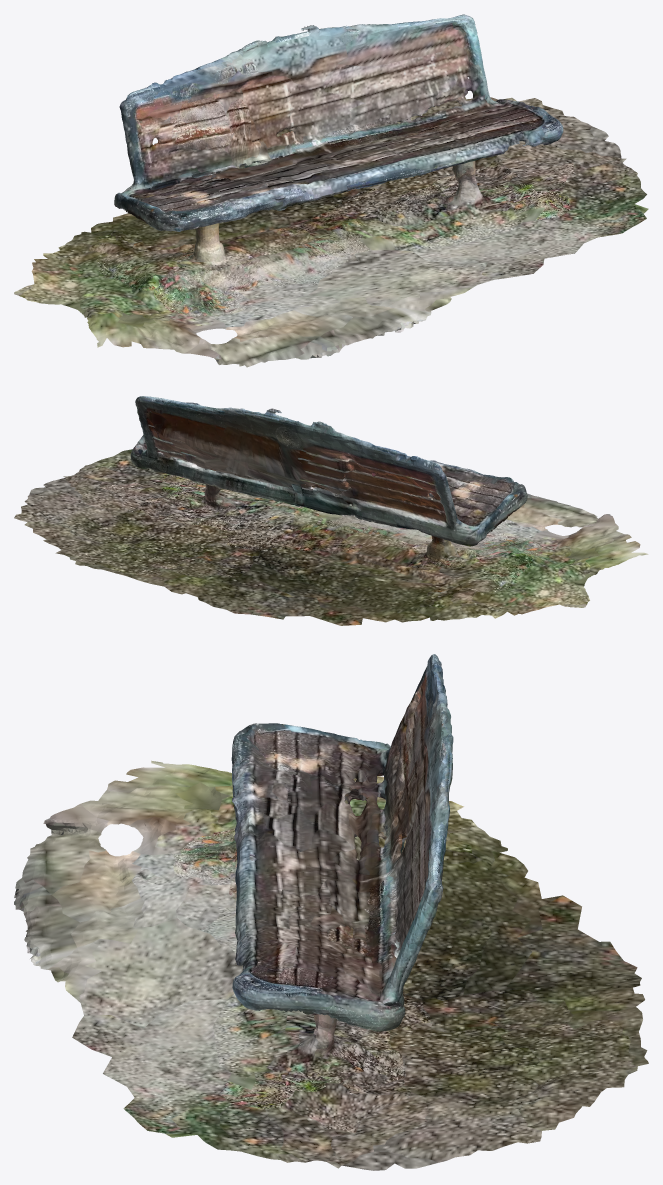
File: banc-jardin-botanique.glb
The picture shows the model from 3 angles, top to bottom: view 1: azimuth 30°, elevation 25°; view 2: azimuth 150°, elevation 25°; view 3: azimuth 270°, elevation 25°; orthographic projection. The views are drawn at different scales.
Parts seen in each view (by area): view 1: mesh; view 2: mesh; view 3: mesh.
Part boxes in pixels (box(x1,y1,x2,y2)): mesh: box(14, 14, 648, 367); mesh: box(14, 396, 648, 625); mesh: box(14, 654, 648, 1170).
Size of the model in its own units: 2.83 by 0.8219 by 1.86.
1 material, 1 textured.
